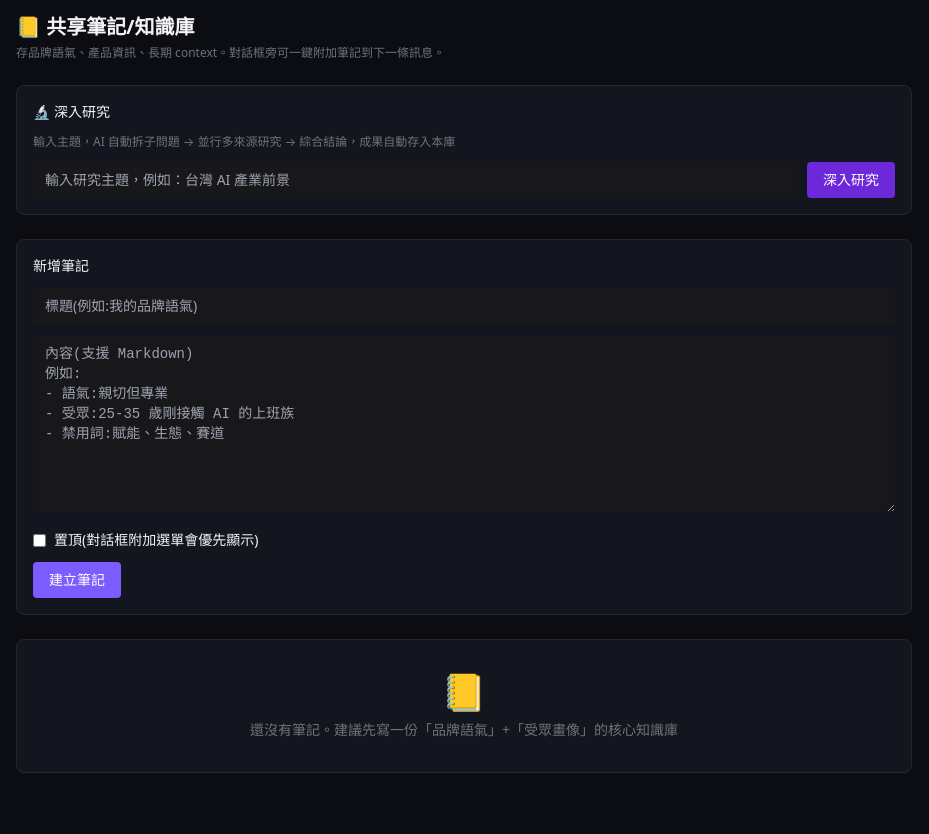
NotesPanel — 🔬 深入研究區塊 › research:progress 事件（stage=researching）更新進度顯示
This screenshot has width=929, height=834.
In the field with placeholder "輸入研究主題，例如：台灣 AI 產業前景": point(416, 180) [33,162,799,198], type "台灣 AI"
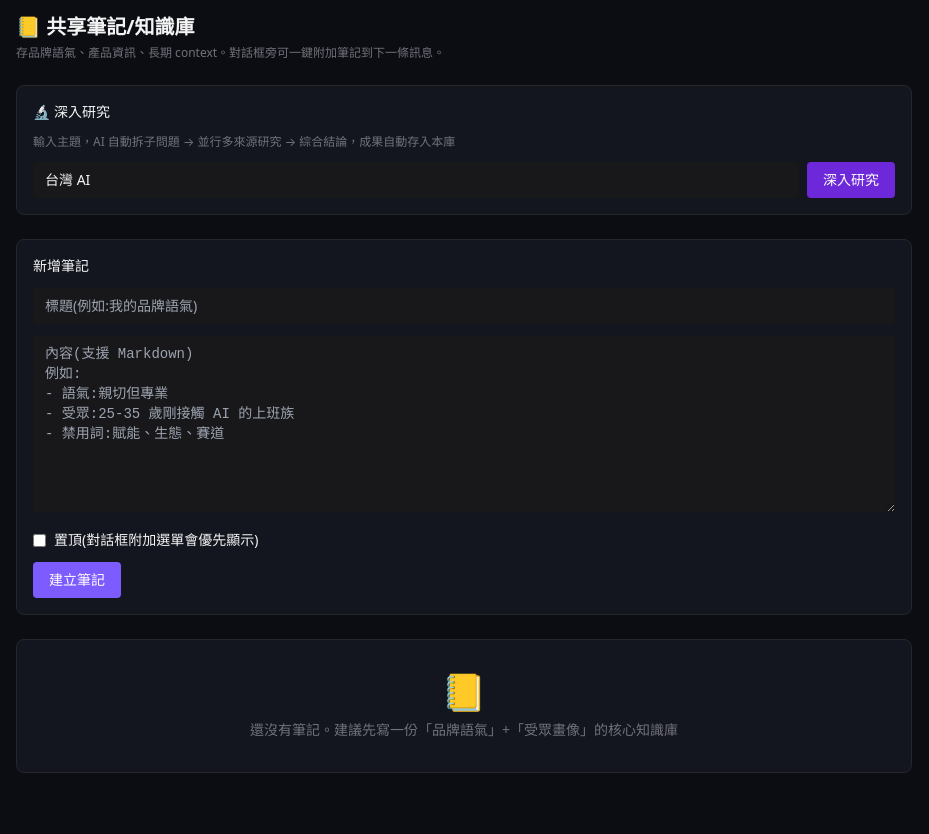
Click the button "深入研究": point(851, 180) [807,162,895,198]
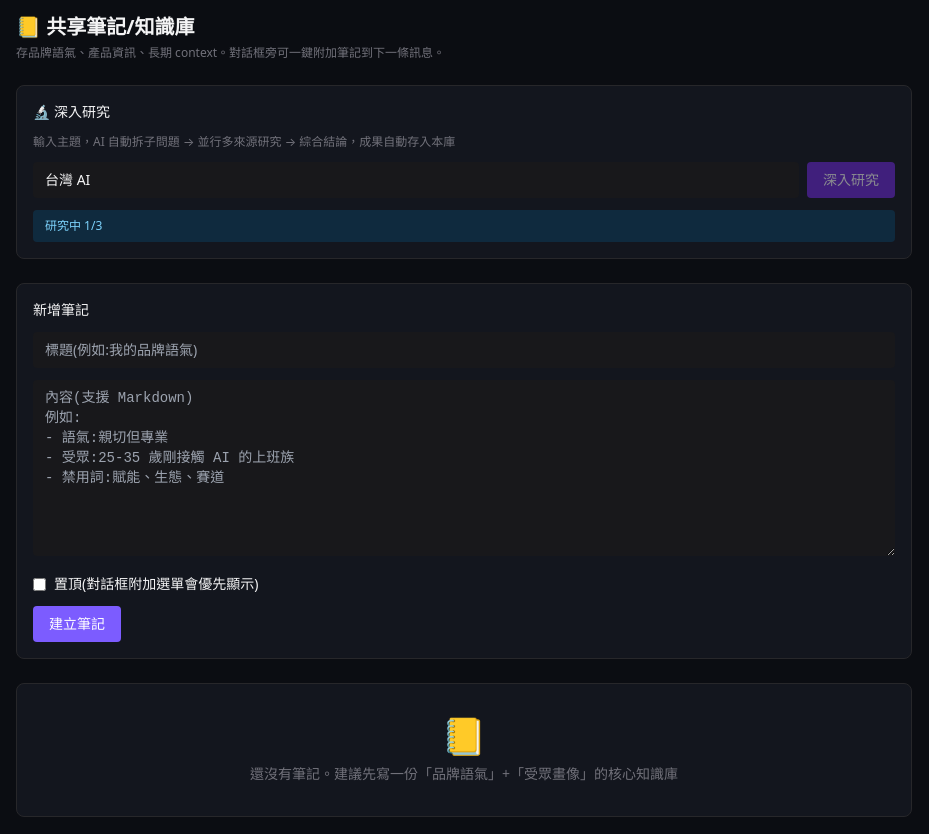
Now the text "研究中 1/3" is shown, box [33,210,895,242]
